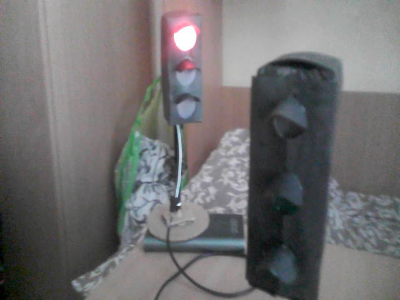trafficlight_red: (168, 13, 203, 121)
